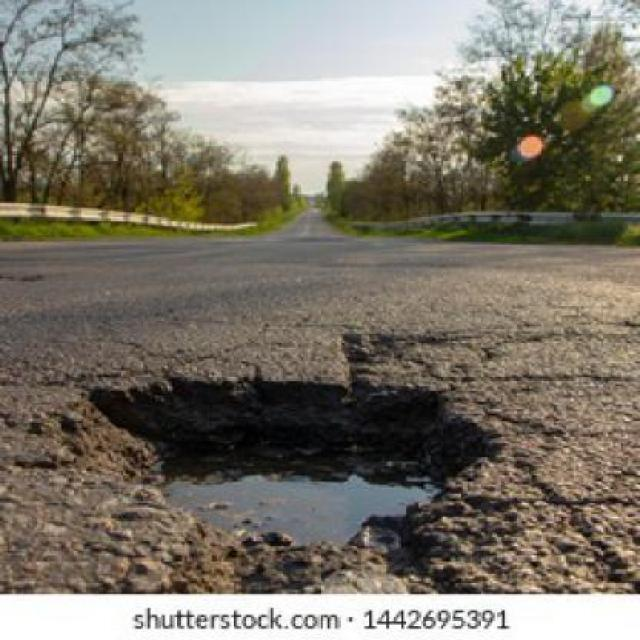Buraco: (21, 360, 511, 597)
